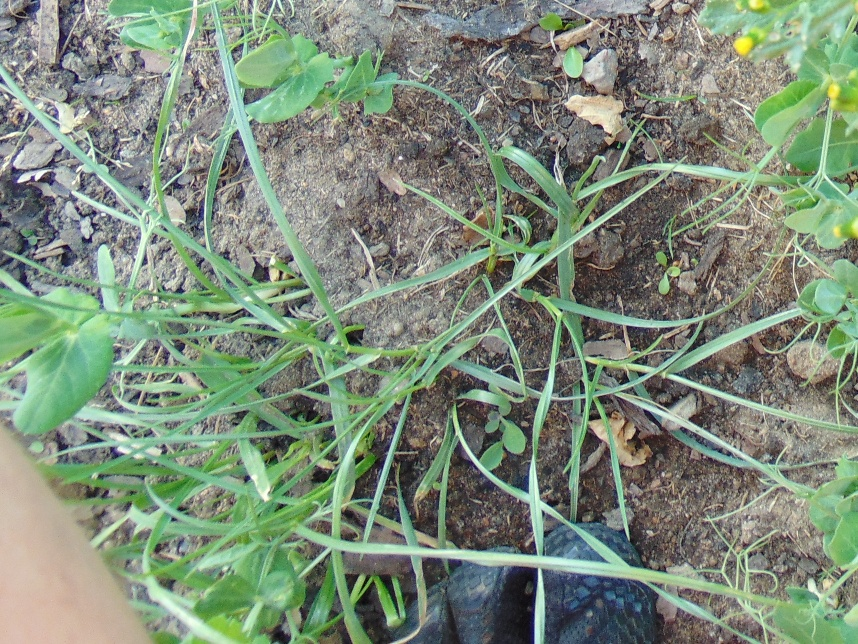crop: (727, 74, 858, 263), (219, 1, 399, 124), (1, 252, 122, 434), (718, 513, 858, 644), (758, 245, 858, 375), (758, 439, 858, 569), (197, 546, 308, 630), (95, 1, 223, 66), (112, 192, 164, 320)
weed: (44, 419, 364, 540), (178, 315, 489, 429), (468, 156, 637, 355), (697, 1, 858, 69), (475, 400, 534, 476), (538, 12, 585, 78)
